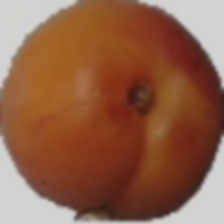apricot: (50, 1, 199, 199)
